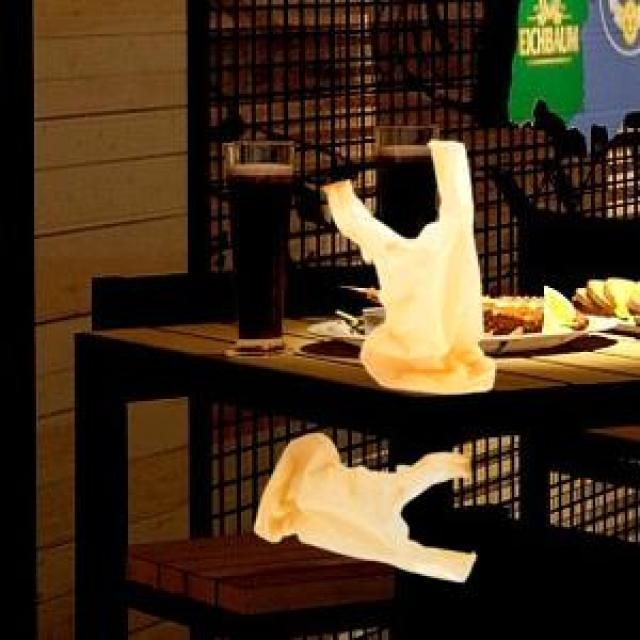waste: (324, 140, 495, 394), (257, 432, 476, 582)
